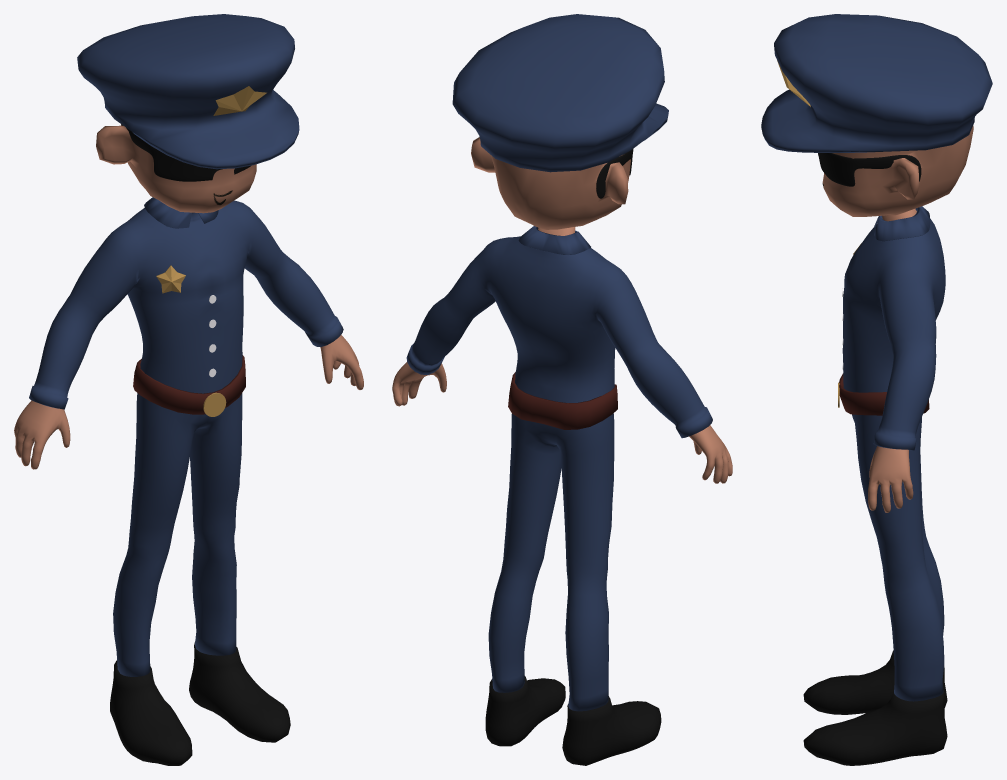
Rendered from policeman.fbx.
The picture shows the model from 3 angles, left to right: view 1: azimuth 30°, elevation 25°; view 2: azimuth 150°, elevation 25°; view 3: azimuth 270°, elevation 25°; orthographic projection. The views are drawn at different scales.
Visible parts, largest first — view 1: shirt; view 2: shirt; view 3: shirt.
Boxes of the visible parts, x1=… form: shirt: x1=14, y1=14, x2=363, y2=765; shirt: x1=392, y1=14, x2=732, y2=765; shirt: x1=761, y1=14, x2=992, y2=765.
Bounding box in the file's own units: 167 × 334 × 101.
